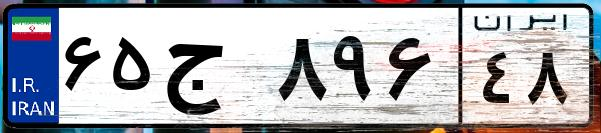4: (475, 38, 525, 113)
5: (110, 28, 158, 98)
6: (385, 28, 445, 110), (57, 26, 110, 100)
8: (270, 28, 330, 110), (525, 38, 570, 115)
9: (330, 28, 385, 110)
ج: (158, 20, 270, 120)
